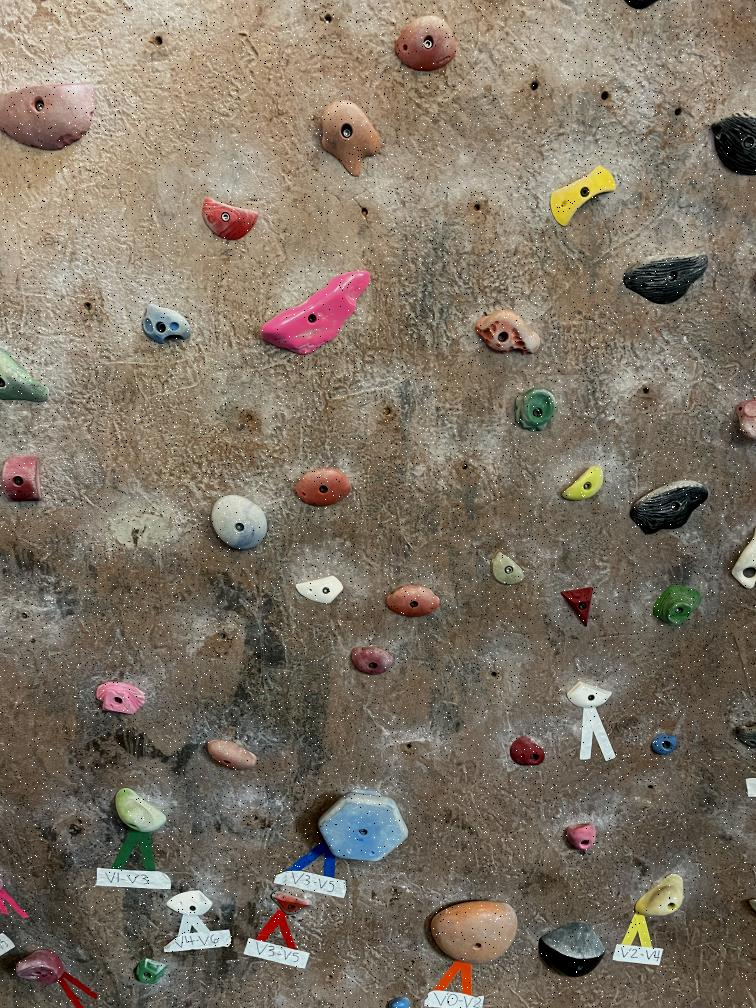Crimp: (4, 948, 73, 996), (199, 189, 259, 242), (504, 382, 562, 434), (90, 679, 148, 723), (556, 464, 612, 506), (559, 583, 605, 633), (167, 884, 227, 920), (562, 675, 616, 713), (508, 727, 551, 771), (352, 644, 402, 678), (298, 576, 344, 608), (270, 890, 314, 918)
Foothold: (560, 820, 604, 859), (132, 954, 174, 991), (644, 732, 680, 768)
Jug: (249, 270, 385, 354), (427, 890, 523, 972), (312, 794, 422, 864), (610, 237, 716, 306), (317, 89, 390, 184), (4, 82, 99, 155), (379, 0, 470, 76), (626, 474, 714, 538), (467, 294, 551, 360), (129, 302, 207, 359), (203, 490, 266, 558), (106, 783, 168, 846), (289, 464, 369, 510), (194, 732, 270, 776), (384, 580, 450, 621)
Pinch: (546, 166, 622, 222), (644, 575, 705, 633), (633, 868, 689, 927), (0, 454, 47, 504)
Sloper: (535, 922, 609, 984), (484, 552, 530, 583)
